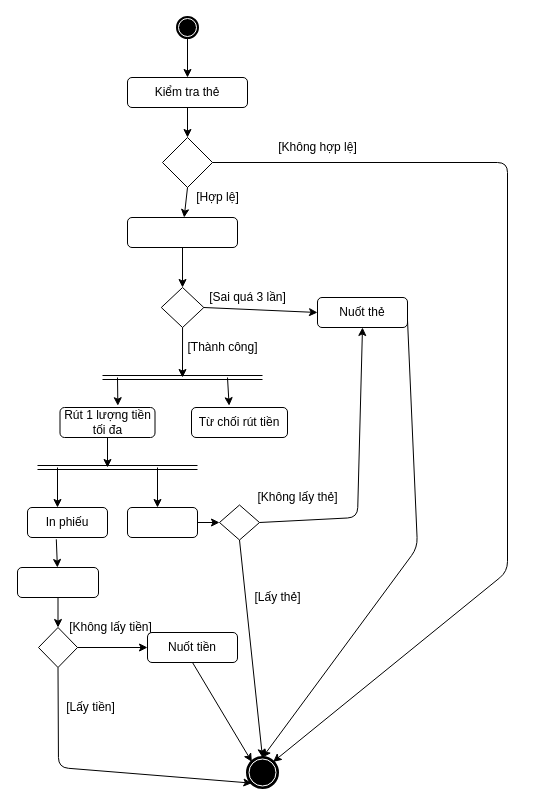
This 533x809 diagram has some shape labels left out. Here are the shapes that lost their labels. From the top down, the centre of each, then its label:
At (x=182, y=232): "Nhập mã PIN".
At (x=162, y=522): "Lấy thẻ".
At (x=57, y=582): "Chờ lấy tiền".
